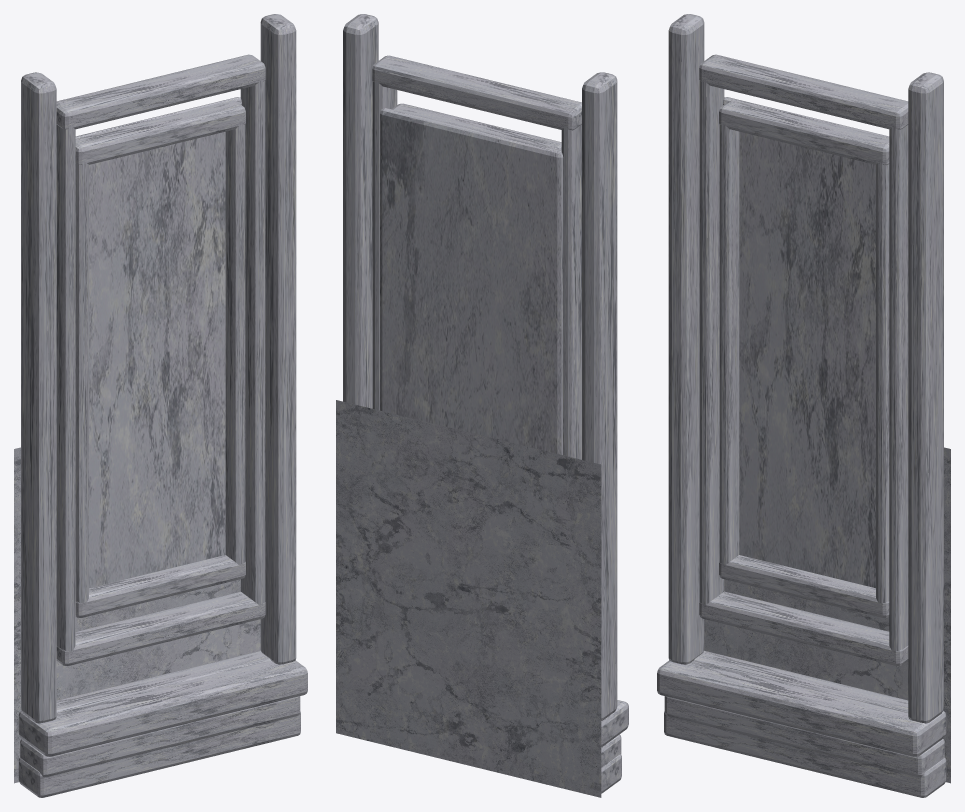
Rendered from appearance.glb.
3 views of the same model, side by side, from view 1: azimuth 30°, elevation 25°; view 2: azimuth 150°, elevation 25°; view 3: azimuth 330°, elevation 25° (orthographic).
Parts seen in each view (by area): view 1: PanelShadow, LeftPilaster, RightPilaster, CorniceUpper, Surface, OuterRight, OuterLeft, InnerRight, OuterTop, OuterBottom, InnerLeft, SkirtingLower (+4 smaller); view 2: Surface, PanelShadow, LeftPilaster, RightPilaster, OuterTop, OuterLeft, OuterRight, InnerTop, CorniceUpper, SkirtingLower; view 3: PanelShadow, RightPilaster, LeftPilaster, CorniceUpper, Surface, OuterLeft, OuterRight, InnerLeft, OuterTop, OuterBottom, InnerRight, SkirtingLower (+4 smaller).
Boxes of the visible parts, box(x1,y1,x2,y2) form: PanelShadow: box(75, 97, 241, 588); LeftPilaster: box(21, 72, 56, 723); RightPilaster: box(260, 14, 296, 664); CorniceUpper: box(18, 660, 307, 756); Surface: box(14, 447, 260, 783); OuterRight: box(240, 80, 265, 606); OuterLeft: box(56, 125, 75, 652); InnerRight: box(225, 123, 245, 564); OuterTop: box(56, 54, 265, 129); OuterBottom: box(56, 591, 265, 666); InnerLeft: box(75, 161, 88, 604); SkirtingLower: box(18, 711, 300, 797); Surface: box(336, 400, 601, 797); PanelShadow: box(380, 108, 563, 454); LeftPilaster: box(582, 72, 617, 720); RightPilaster: box(343, 14, 378, 408); OuterTop: box(372, 55, 581, 130); OuterLeft: box(561, 124, 581, 459); OuterRight: box(372, 80, 397, 410); InnerTop: box(392, 103, 561, 150); CorniceUpper: box(601, 700, 628, 747); SkirtingLower: box(601, 754, 621, 793); PanelShadow: box(723, 97, 889, 588); RightPilaster: box(908, 72, 943, 723); LeftPilaster: box(668, 14, 704, 664); CorniceUpper: box(657, 660, 946, 756); Surface: box(704, 447, 950, 783); OuterLeft: box(699, 80, 724, 605); OuterRight: box(889, 125, 908, 652); InnerLeft: box(719, 123, 739, 564); OuterTop: box(699, 54, 908, 129); OuterBottom: box(699, 591, 908, 666); InnerRight: box(876, 161, 889, 603); SkirtingLower: box(664, 711, 946, 797).
Bounding box in the file's own units: 1 × 2.55 × 0.205.
Materials: 3 (3 with a texture image).
